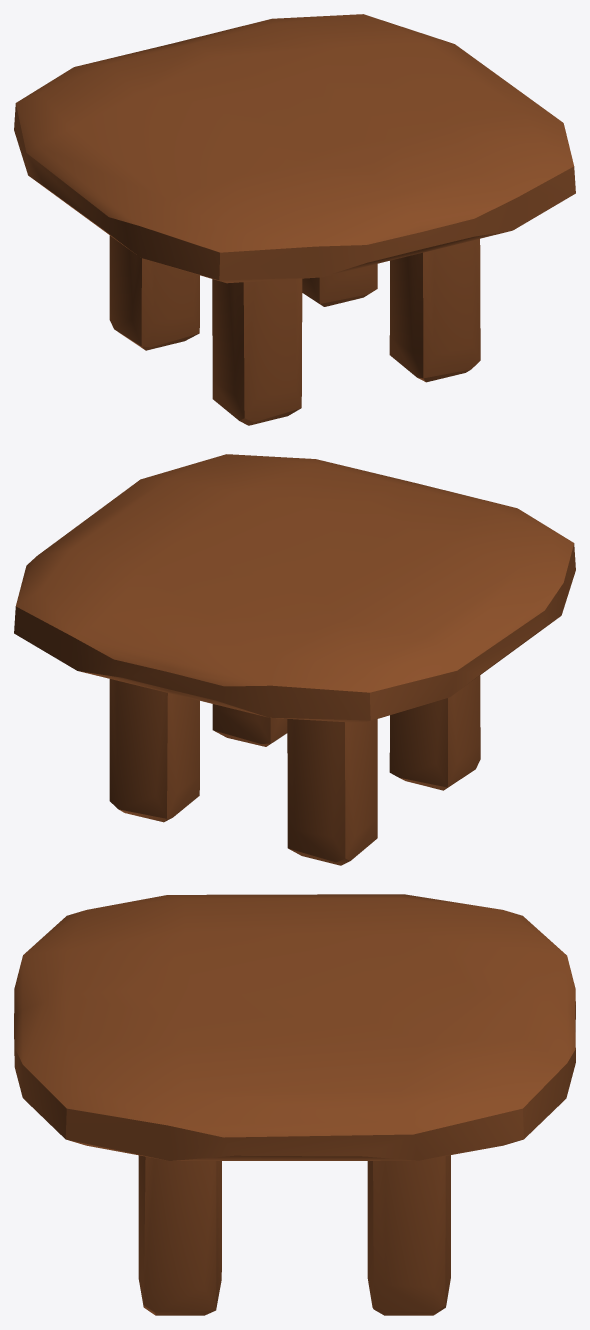
Rendered from table.glb.
3 views of the same model, one above another, from view 1: azimuth 30°, elevation 25°; view 2: azimuth 150°, elevation 25°; view 3: azimuth 270°, elevation 25° (orthographic). The views are drawn at different scales.
Visible parts, largest first — view 1: Table; view 2: Table; view 3: Table.
Part boxes in pixels (x1,y1,x2,y2): Table: (14, 14, 575, 425); Table: (14, 454, 575, 865); Table: (14, 894, 575, 1315).
Size of the model in its own units: 2.27 by 1.2 by 2.26.
